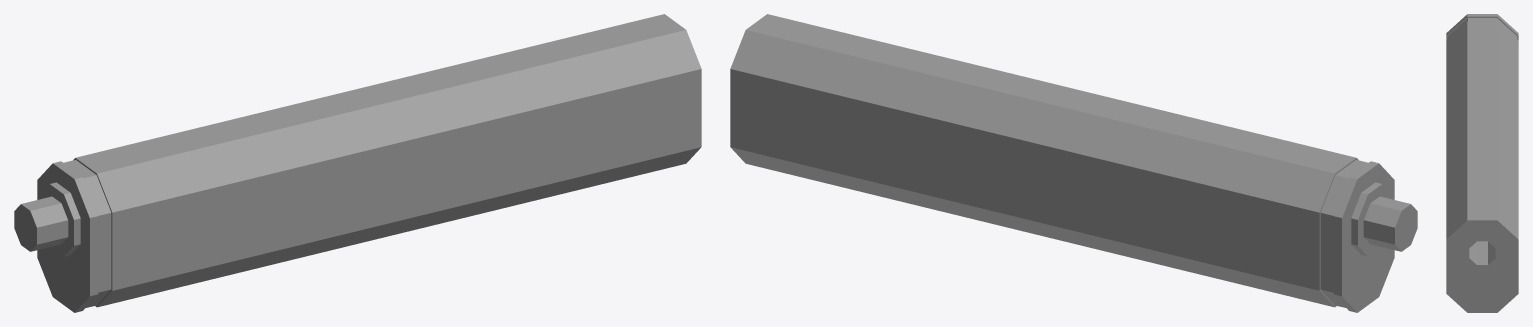
File: Muffler_02_1.fbx
3 views of the same model, side by side, from view 1: azimuth 30°, elevation 25°; view 2: azimuth 150°, elevation 25°; view 3: azimuth 270°, elevation 25° (orthographic). The views are drawn at different scales.
Visible parts, largest first — view 1: Muffler_02_1; view 2: Muffler_02_1; view 3: Muffler_02_1.
Boxes of the visible parts, x1,y1,x2,y2 form: Muffler_02_1: (14,14,701,312); Muffler_02_1: (730,14,1417,312); Muffler_02_1: (1446,14,1518,312).
Size of the model in its own units: 0.2491 by 0.049 by 0.0348.
